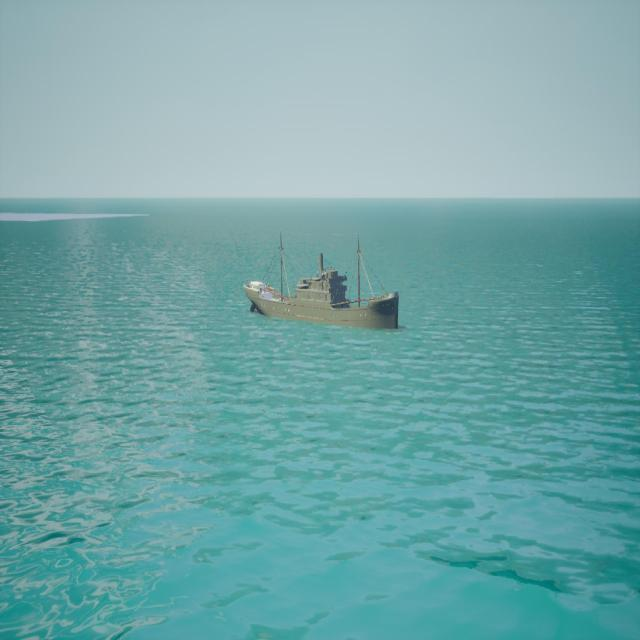fishing ship: (246, 236, 400, 331)
